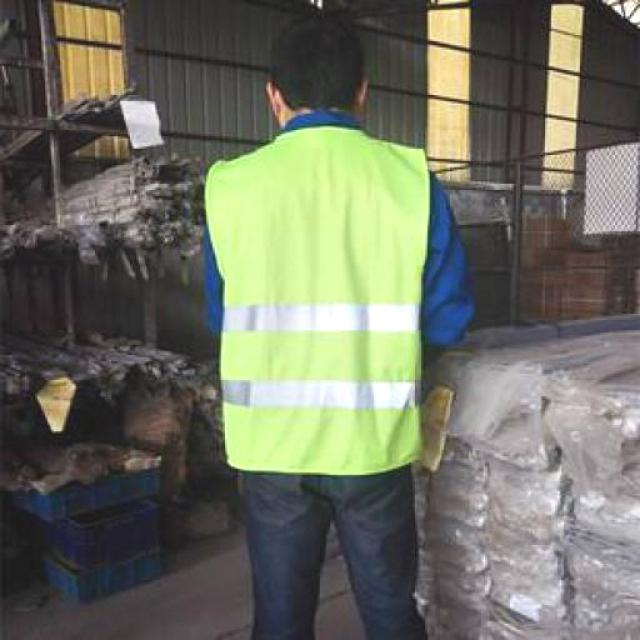head_nohelmet: (262, 17, 378, 134)
person: (185, 15, 480, 640)
vest: (217, 132, 429, 487)
